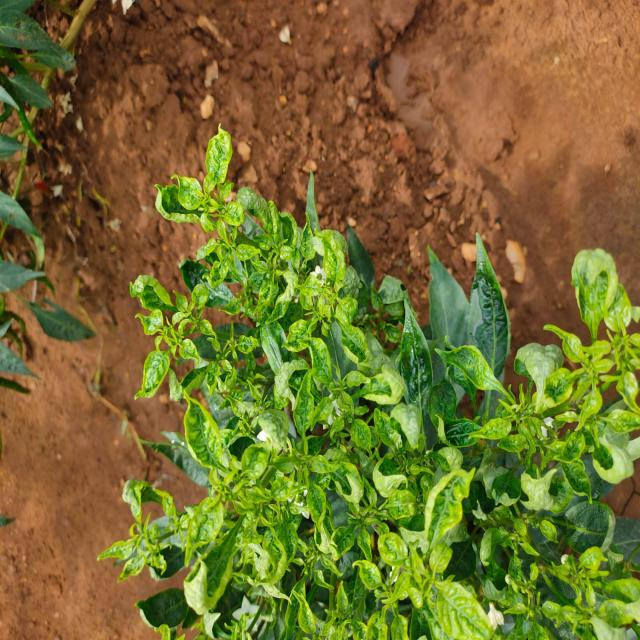Moko: (291, 225, 443, 463), (474, 275, 640, 487), (339, 447, 491, 640), (143, 103, 285, 286), (93, 441, 262, 582), (100, 251, 237, 387), (505, 527, 640, 640), (166, 426, 272, 512)
